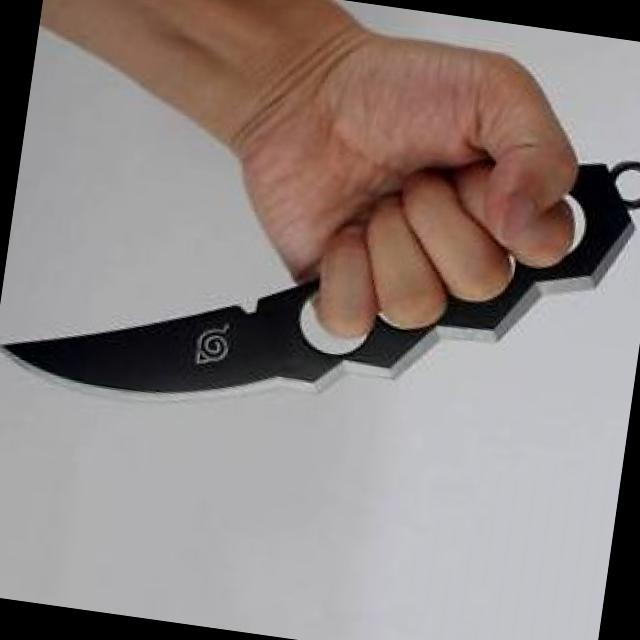knife: (0, 100, 533, 451)
